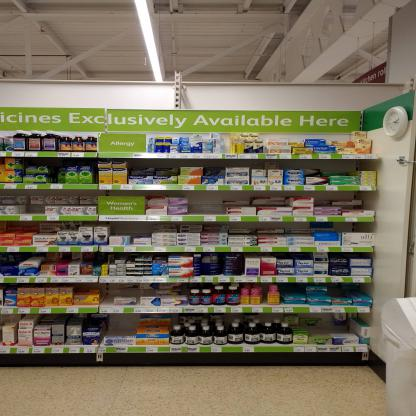Void: (310, 314, 348, 333), (194, 192, 224, 214), (328, 162, 357, 176), (112, 314, 132, 334), (120, 223, 148, 234), (337, 286, 364, 294), (112, 284, 132, 294), (8, 223, 32, 230), (25, 206, 42, 213), (288, 285, 300, 290)
